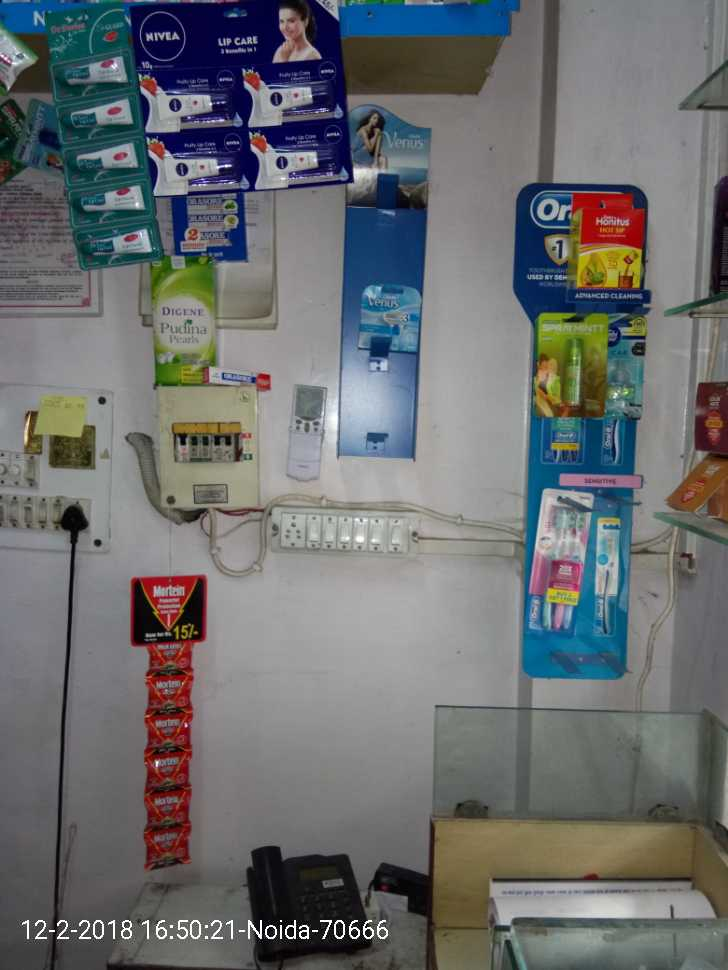pharmacy: (519, 490, 585, 638), (594, 328, 636, 472), (588, 510, 629, 643)
venus: (352, 279, 423, 360)
